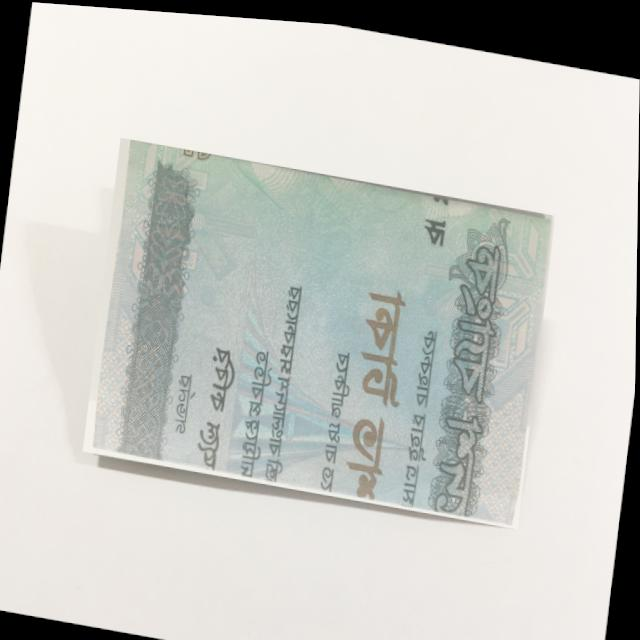Taka: (83, 134, 556, 523)
